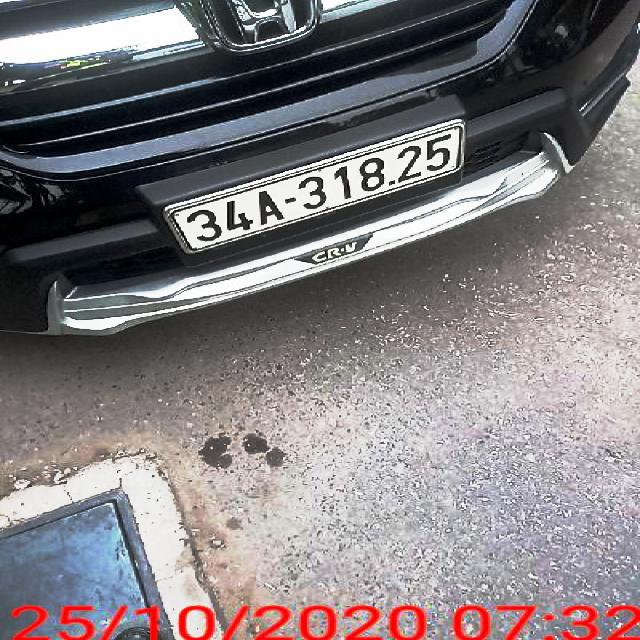license_plate: (177, 122, 463, 252)
